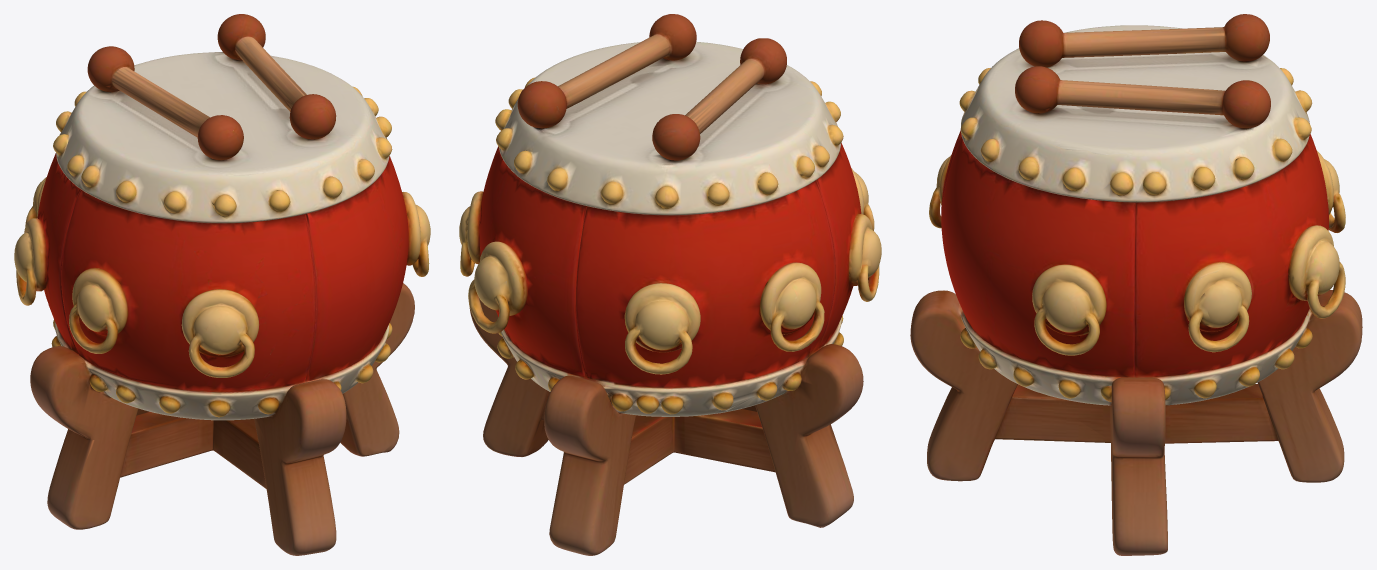
Rendered from drum.glb.
The picture shows the model from 3 angles, left to right: view 1: azimuth 30°, elevation 25°; view 2: azimuth 150°, elevation 25°; view 3: azimuth 270°, elevation 25°; orthographic projection. The views are drawn at different scales.
Parts seen in each view (by area): view 1: node_0; view 2: node_0; view 3: node_0.
Part boxes in pixels (x1,y1,x2,y2): node_0: (14,14,430,555); node_0: (459,14,881,555); node_0: (910,14,1362,555).
Size of the model in its own units: 0.8586 by 0.9225 by 0.8793.
Materials: 1 (1 with a texture image).
